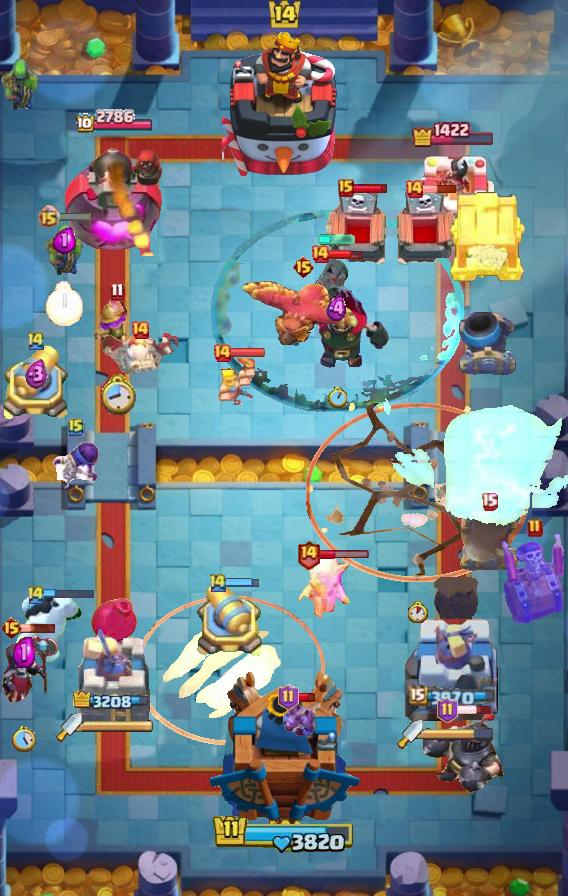archer: (217, 357, 255, 406)
baby-dragon: (88, 593, 140, 647), (434, 577, 478, 619)
bar: (405, 611, 501, 731), (75, 623, 153, 731)
bomb: (447, 189, 527, 283)
bomb-tower: (89, 295, 145, 373)
clock: (212, 813, 356, 855)
electro-spirit: (24, 359, 47, 390), (13, 637, 35, 668), (52, 226, 75, 253), (326, 294, 348, 322)
elixir: (45, 282, 83, 327), (98, 372, 136, 415), (12, 726, 36, 752), (408, 601, 428, 623), (328, 387, 347, 408)
elixir-golem-mid: (323, 187, 393, 273), (390, 187, 460, 273)
emote: (44, 588, 96, 600), (319, 549, 370, 560), (328, 247, 364, 260), (455, 704, 493, 716), (19, 622, 56, 634), (351, 182, 388, 193), (230, 346, 266, 357), (225, 577, 261, 588), (57, 210, 92, 221), (422, 184, 458, 194), (296, 693, 315, 704)
giant-snowball: (0, 56, 40, 114), (44, 221, 84, 279)
goblin-ball: (50, 440, 102, 494)
guard: (306, 402, 530, 581)
ice-spirit: (317, 234, 357, 246)
ice-wizard: (136, 595, 325, 745)
inferno-tower: (284, 257, 390, 369)
king-tower: (207, 669, 361, 826), (222, 31, 346, 181)
king-tower-bar: (82, 720, 154, 734), (423, 727, 495, 741)
mega-knight: (380, 384, 568, 530)
mini-pekka: (102, 330, 178, 378)
mother-witch: (238, 279, 368, 353)
musketeer: (457, 508, 521, 574), (458, 311, 518, 375)
pad_0: (210, 210, 464, 416)
poison: (283, 553, 367, 625)
queen-tower: (407, 150, 499, 256)
rage: (12, 592, 84, 664)
rascal-boy: (0, 633, 60, 707)
royal-delivery: (283, 695, 323, 743)
royal-guardian: (418, 711, 506, 797)
royal-recruit: (0, 342, 72, 424), (193, 579, 265, 661)
selected: (412, 121, 497, 148), (74, 109, 154, 135), (410, 685, 499, 708), (73, 691, 155, 713)
skeleton-king-bar: (502, 529, 568, 623)
text: (295, 539, 320, 570), (292, 255, 315, 279), (1, 616, 24, 640), (277, 684, 298, 710), (437, 697, 458, 723), (36, 204, 59, 227), (26, 329, 46, 350), (208, 572, 228, 593), (26, 583, 46, 604), (404, 179, 424, 199), (310, 244, 330, 264), (130, 320, 150, 340), (212, 343, 232, 363), (481, 493, 499, 511), (68, 417, 84, 437), (527, 518, 543, 538), (338, 179, 354, 197), (110, 283, 125, 301)
tower-bar: (63, 138, 164, 256)
